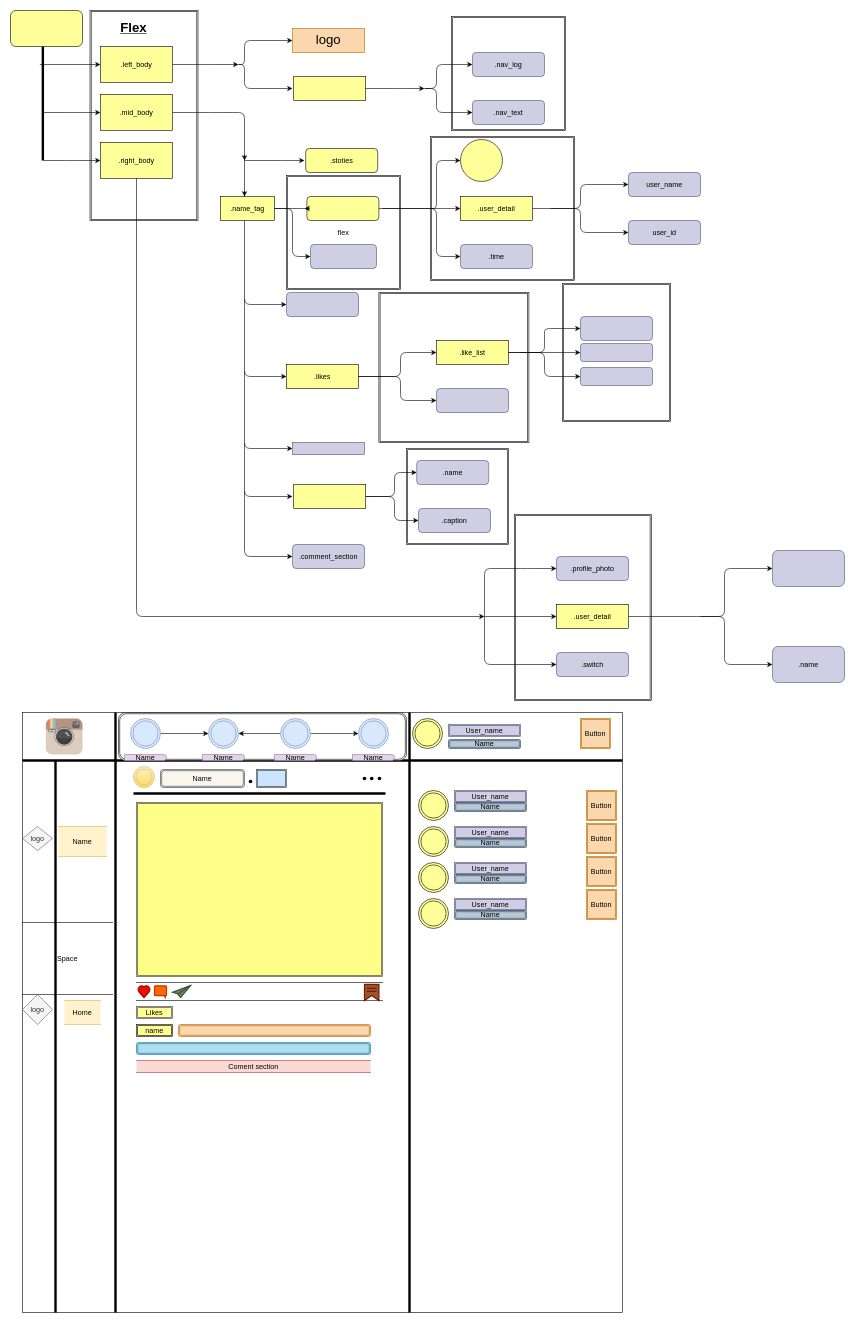
This 855x1324 diagram has some shape labels left out. Each missing label, with the centre of its shape:
".bookmark-logo" goes at (472,400).
".comment_logo" goes at (616,352).
".img" goes at (322,304).
".left_nav" goes at (329,88).
".like-logo" goes at (616,328).
".like_number" goes at (328,448).
".name_cap" goes at (329,496).
".option_line" goes at (343,256).
".profile_detail" goes at (342,208).
".profilr_img" goes at (481,160).
".send_logo" goes at (616,376).
".user_name" goes at (808,568).
".whole" goes at (46,28).
"Caption" goes at (274,1030).
"Image" goes at (259,889).
"pic" goes at (143,777).
"text" goes at (253,1048).
"Time" goes at (271,778).
